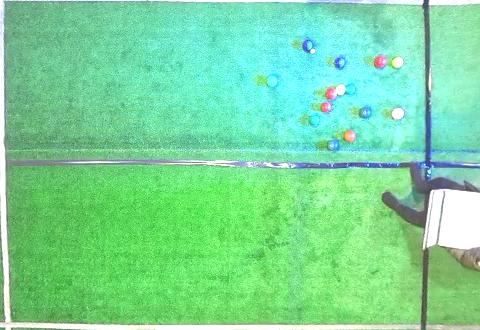blue: (334, 57, 345, 68), (303, 40, 313, 50)
green: (359, 106, 372, 118), (327, 139, 339, 151), (308, 115, 320, 126), (266, 76, 277, 87), (346, 84, 355, 94)
red: (374, 55, 386, 68), (344, 130, 356, 143), (391, 108, 404, 120), (325, 87, 337, 99), (320, 103, 331, 113)
vline: (423, 1, 479, 177), (420, 247, 480, 329), (0, 1, 14, 329)
white: (310, 48, 315, 53)
yellow: (392, 57, 403, 69), (336, 84, 346, 95)
